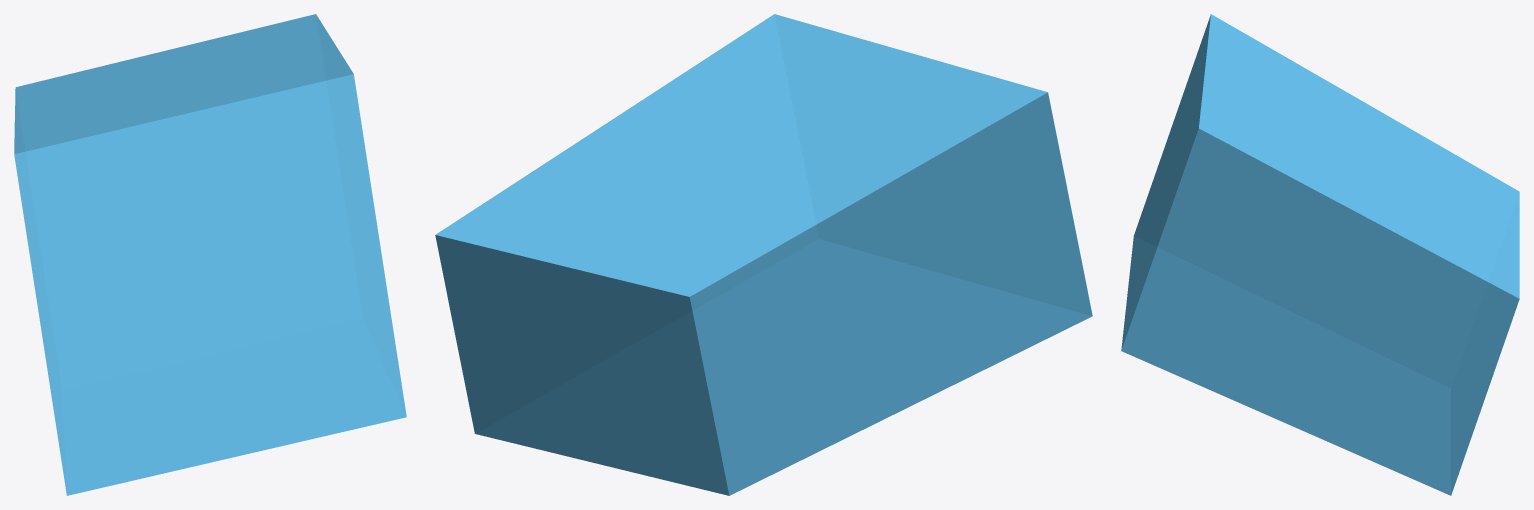
Rendered from Event_420604493_HBrechit_13.fbx.
3 renders of one model, left to right at view 1: azimuth 30°, elevation 25°; view 2: azimuth 150°, elevation 25°; view 3: azimuth 270°, elevation 25°, orthographic. The views are drawn at different scales.
Parts seen in each view (by area): view 1: Model; view 2: Model; view 3: Model.
Boxes of the visible parts, left/top/right/bottom form: Model: left=14, top=14, right=406, bottom=495; Model: left=435, top=14, right=1092, bottom=495; Model: left=1121, top=14, right=1519, bottom=495.
Bounding box in the file's own units: 0.7636 × 0.5889 × 0.702.
